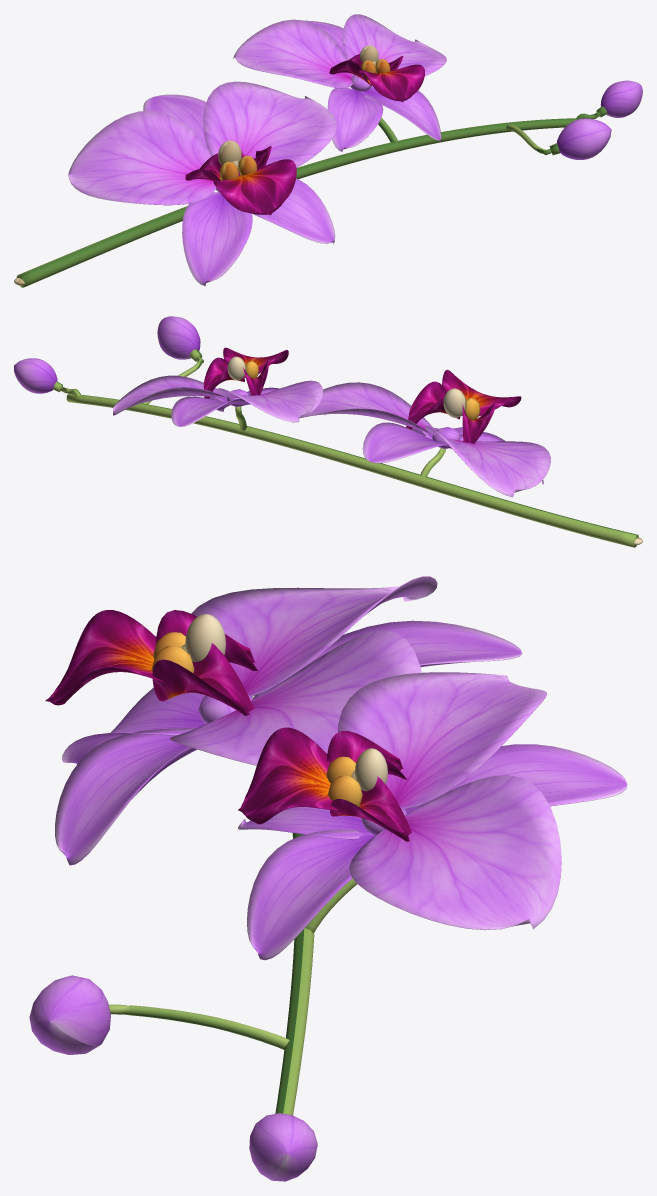
The model's file is NP_Orchid_Harvest.fbx.
3 renders of one model, top to bottom at view 1: azimuth 30°, elevation 25°; view 2: azimuth 150°, elevation 25°; view 3: azimuth 270°, elevation 25°, orthographic. The views are drawn at different scales.
Visible parts, largest first — view 1: NP_Orchid_Harvest; view 2: NP_Orchid_Harvest; view 3: NP_Orchid_Harvest.
Part boxes in pixels (x1,y1,x2,y2): NP_Orchid_Harvest: [14, 14, 642, 287]; NP_Orchid_Harvest: [14, 316, 642, 547]; NP_Orchid_Harvest: [29, 576, 627, 1181].
Bounding box in the file's own units: 94.99 × 18.7 × 39.79.
Materials: 1 (1 with a texture image).
